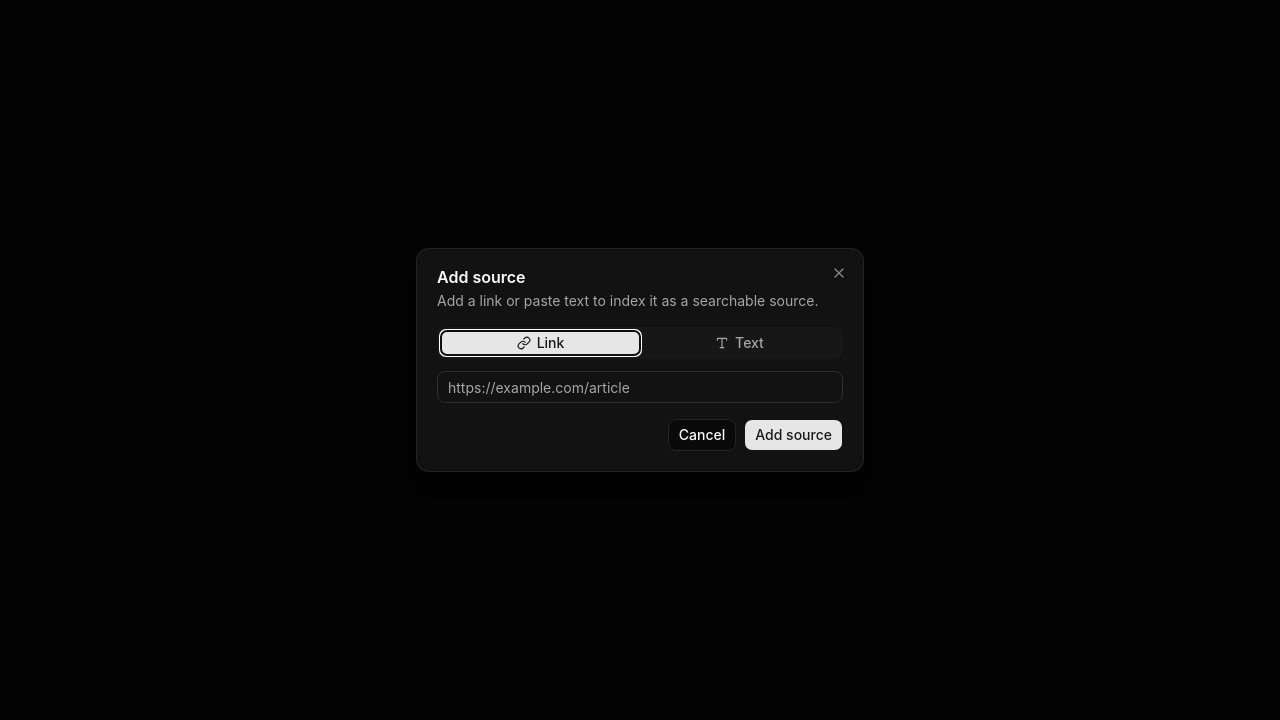
Scenario: SourceUploadDialog › shows validation errors for empty submit
Click the button "Add source": coordinates (794, 435) 744,419 -> 843,451
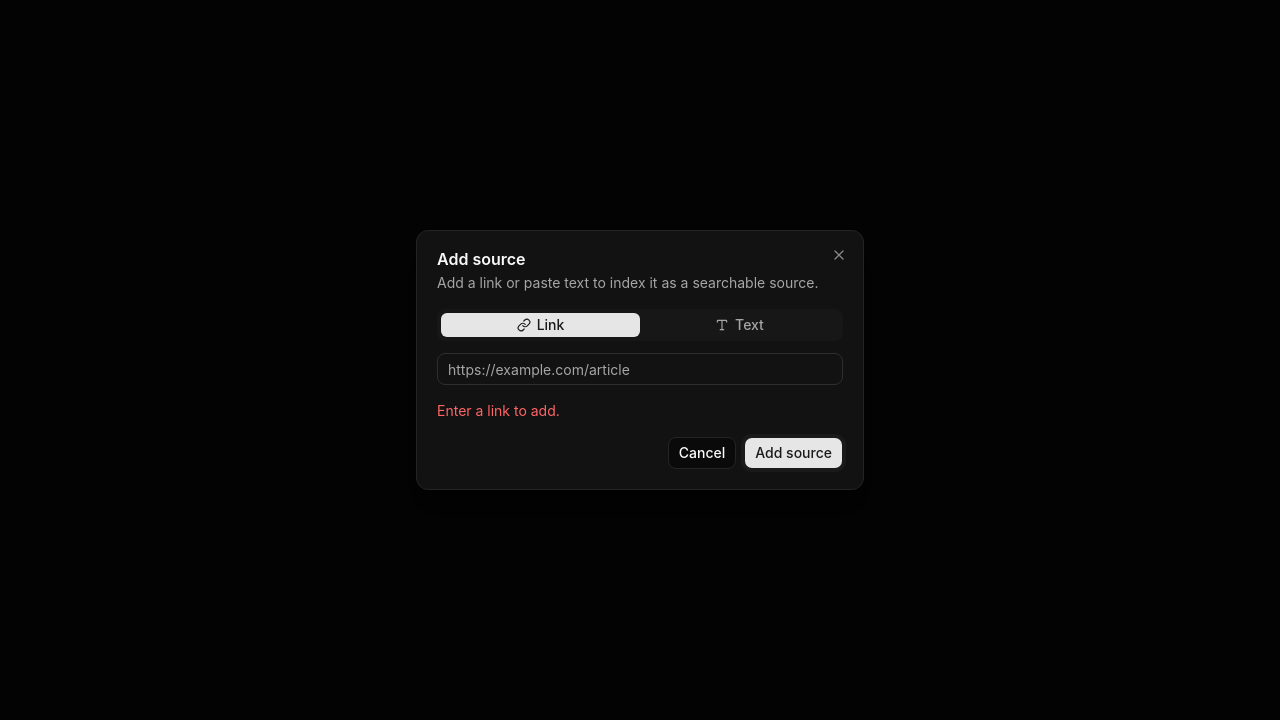
Now the text "Enter a link to add." is shown, box 437,402 -> 560,419
